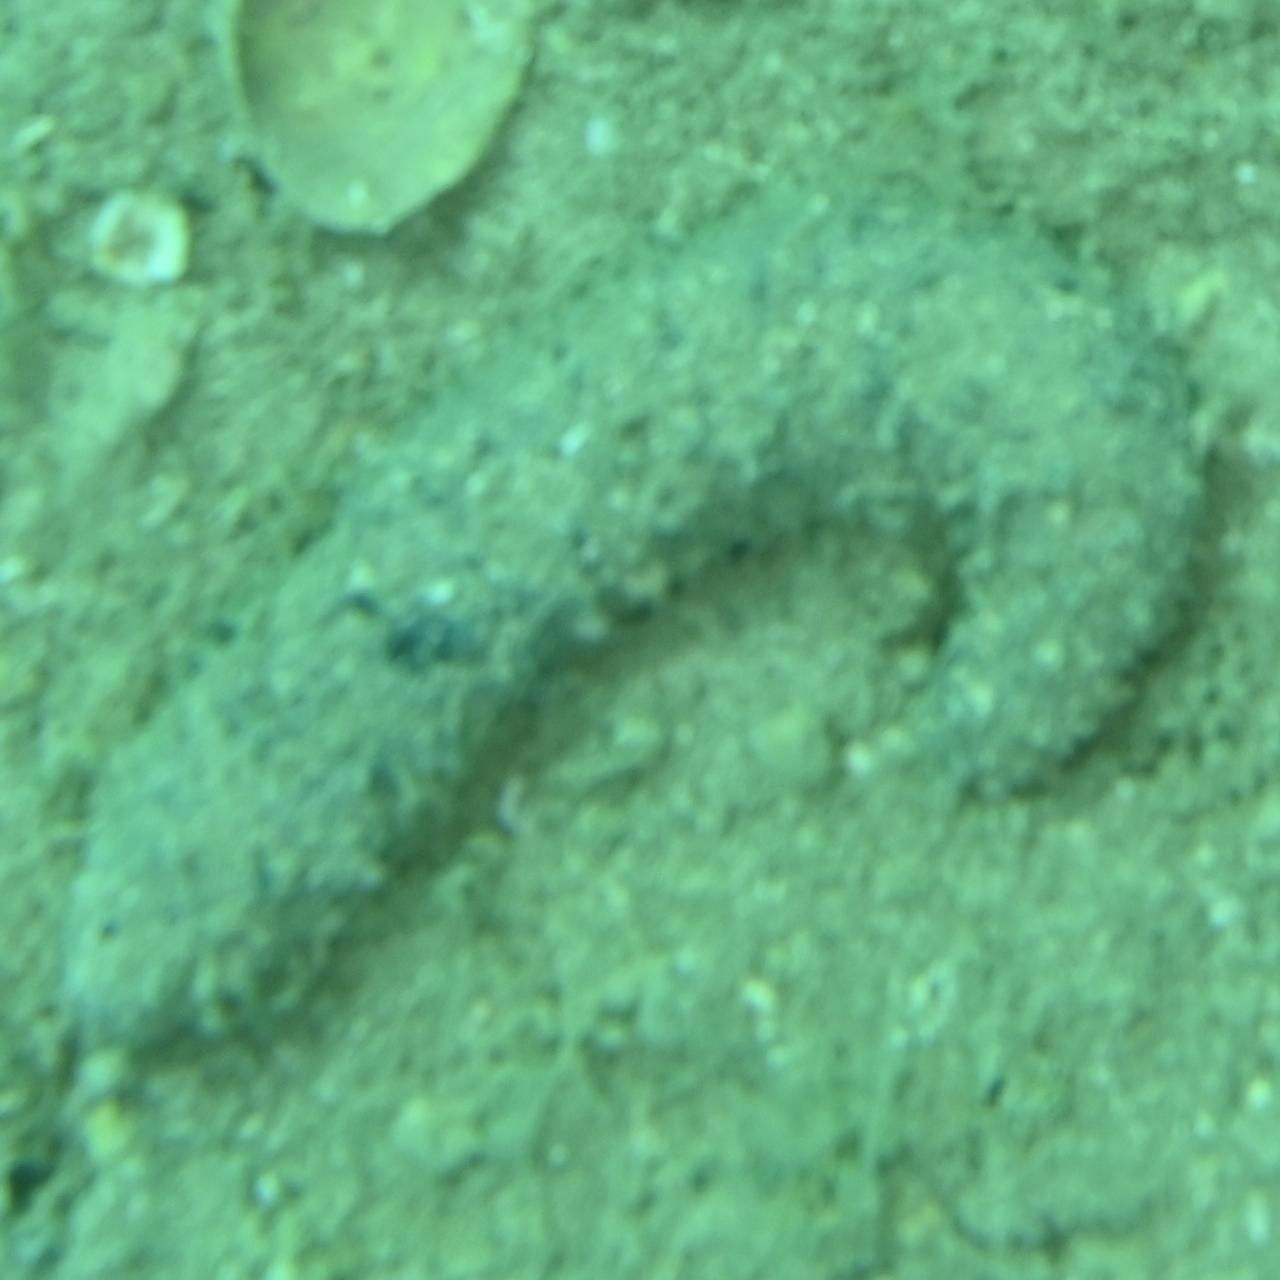Holothuria tubulosa: (62, 186, 1218, 1094)
